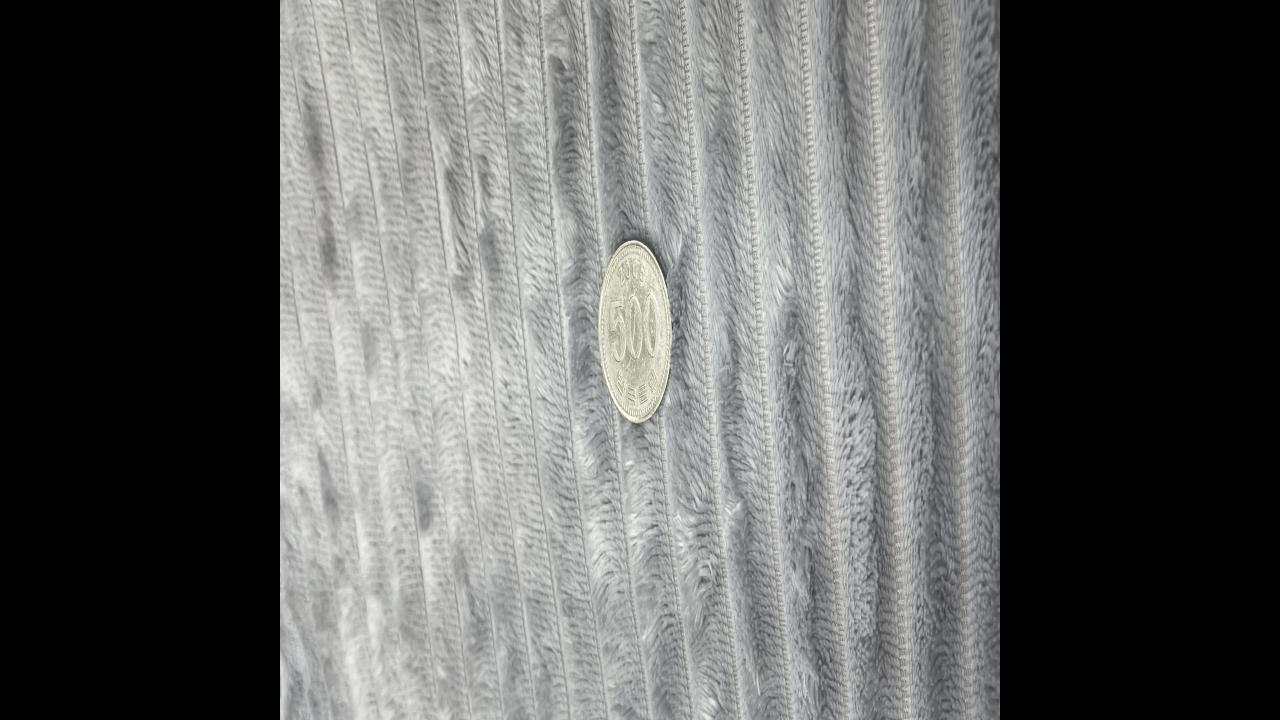coin: (598, 239, 672, 423)
